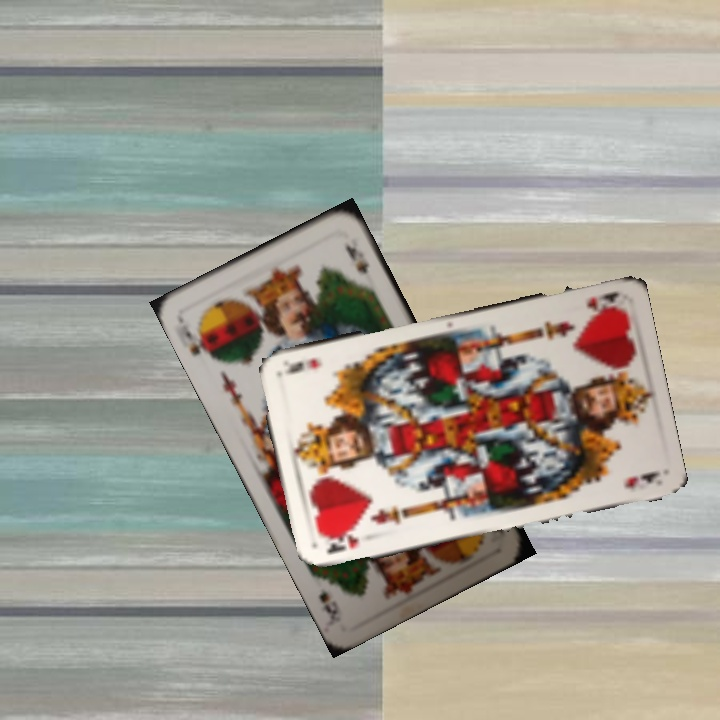HK: (322, 529, 361, 557), (582, 288, 621, 314)
SK: (181, 322, 217, 363)
